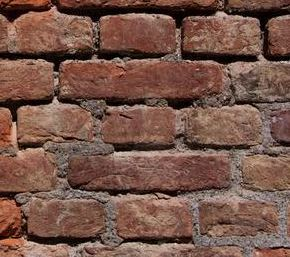brick: (59, 58, 224, 100), (66, 153, 233, 192), (26, 197, 109, 240), (181, 14, 263, 56), (97, 12, 177, 55), (184, 107, 264, 148), (103, 104, 178, 147), (12, 15, 94, 54), (197, 200, 281, 237), (16, 105, 95, 144), (114, 199, 193, 238), (227, 61, 290, 102), (1, 151, 57, 195), (1, 60, 55, 101), (241, 154, 290, 192)
